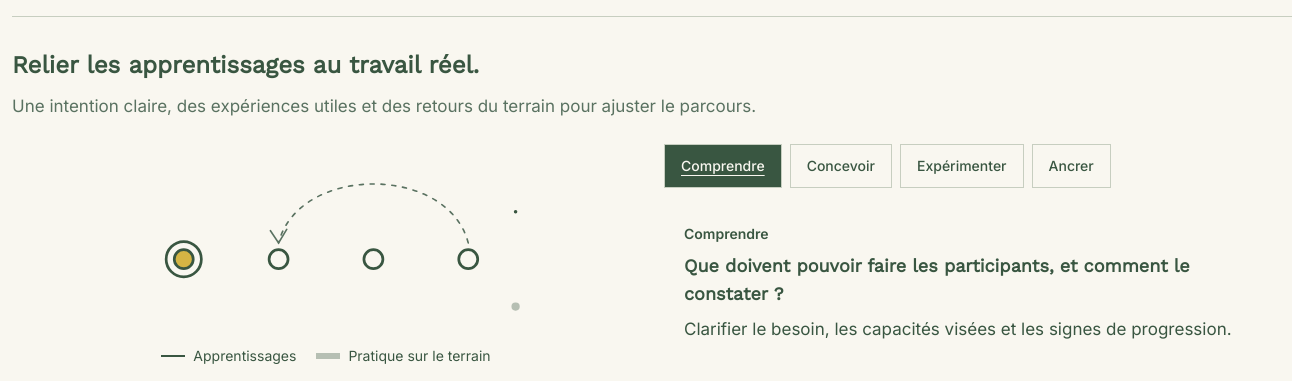
Test: ProgrammeIllustration › starts on Comprendre and lets any dimension be chosen directly
Click the button "Expérimenter" at (962, 166), box [900,144,1024,188]
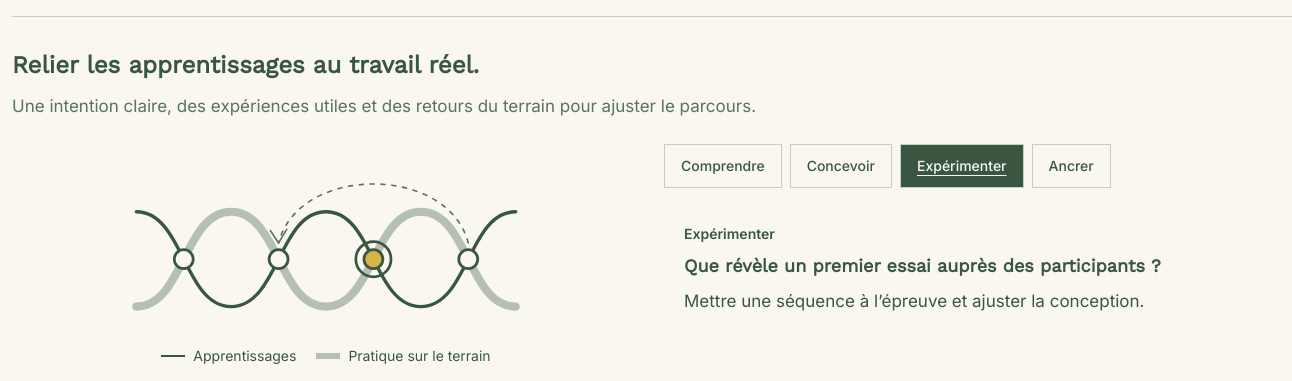
Now the text "Mettre une séquence à l’épreuve et ajuster la conception." is shown, box [684,291,1144,311]
